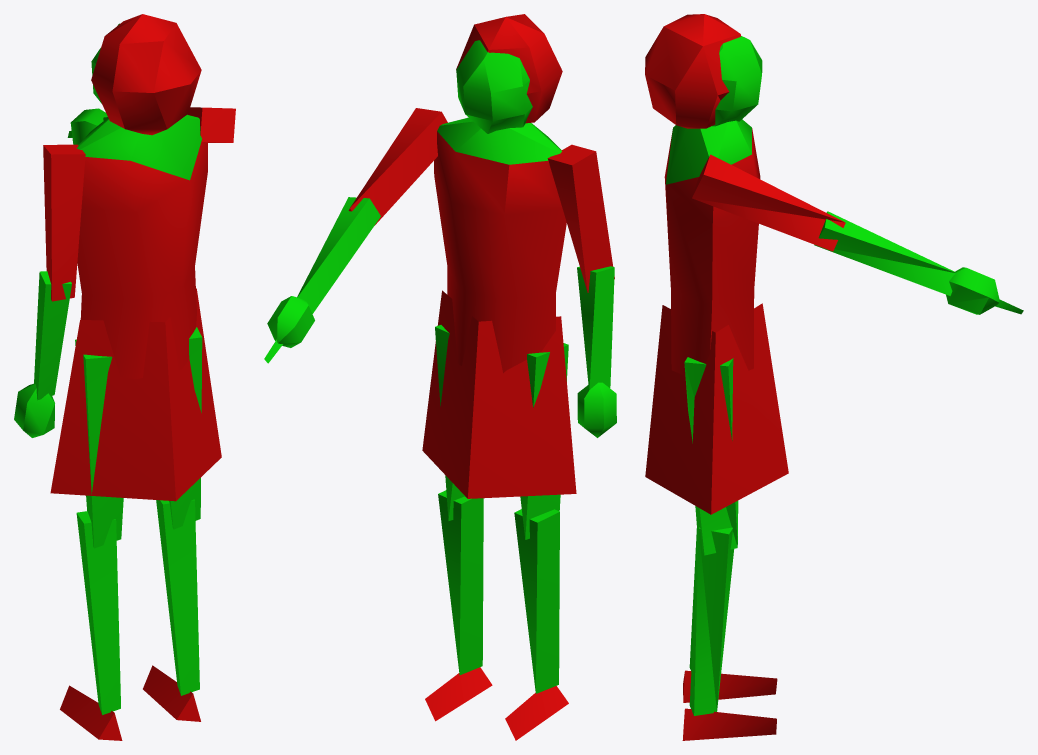
File: stand_point_lod1.glb
3 views of the same model, side by side, from view 1: azimuth 30°, elevation 25°; view 2: azimuth 150°, elevation 25°; view 3: azimuth 270°, elevation 25° (orthographic). The views are drawn at different scales.
Visible parts, largest first — view 1: OUT_1; view 2: OUT_1; view 3: OUT_1.
Part boxes in pixels (x1,y1,x2,y2): OUT_1: (14,14,235,740); OUT_1: (264,14,616,740); OUT_1: (645,14,1023,740).
Size of the model in its own units: 0.5588 by 1.72 by 0.8415.
